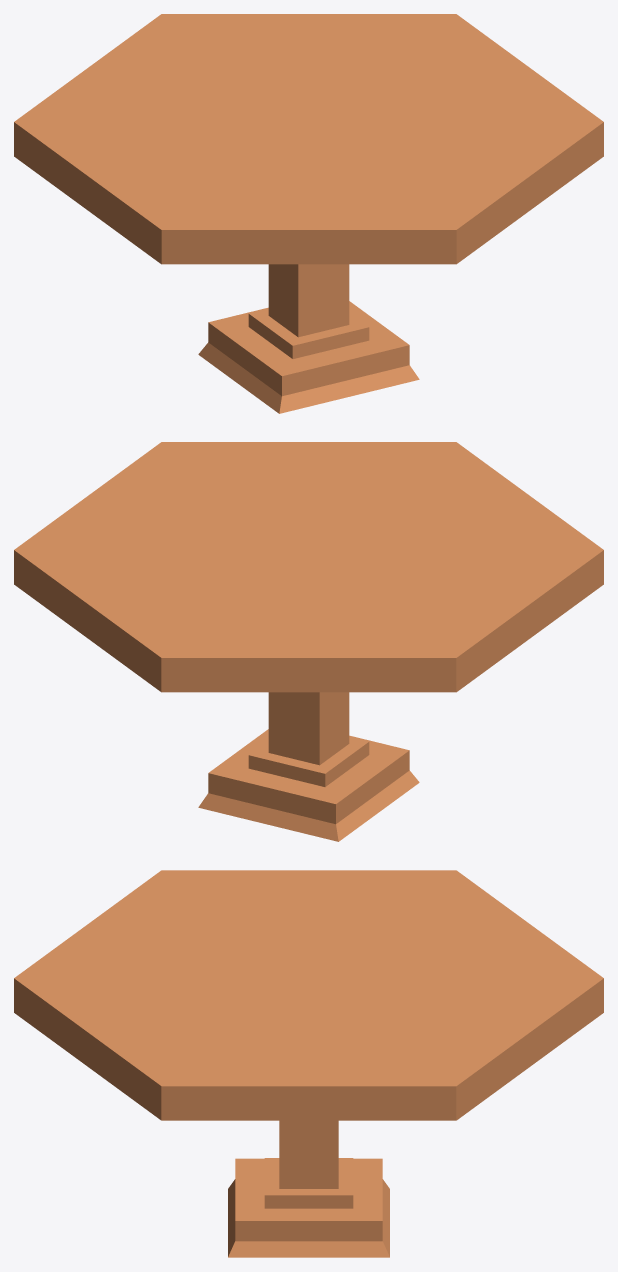
Rendered from table_round.obj.
3 renders of one model, top to bottom at view 1: azimuth 30°, elevation 25°; view 2: azimuth 150°, elevation 25°; view 3: azimuth 270°, elevation 25°, orthographic.
Visible parts, largest first — view 1: tableRound:tableRound; view 2: tableRound:tableRound; view 3: tableRound:tableRound.
Boxes of the visible parts, bbox=[...] form: tableRound:tableRound: bbox=[14, 14, 603, 413]; tableRound:tableRound: bbox=[14, 442, 603, 841]; tableRound:tableRound: bbox=[14, 870, 603, 1257].
Bounding box in the file's own units: 0.6928 × 0.3667 × 0.8.
